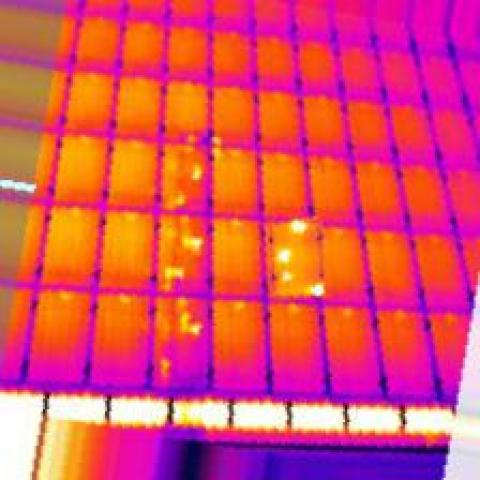fault: (176, 298, 204, 338), (180, 229, 206, 253), (289, 218, 309, 238), (165, 261, 184, 281), (308, 281, 326, 302), (276, 246, 294, 266), (190, 161, 204, 184), (158, 356, 174, 375), (280, 270, 296, 285), (172, 193, 188, 206)
